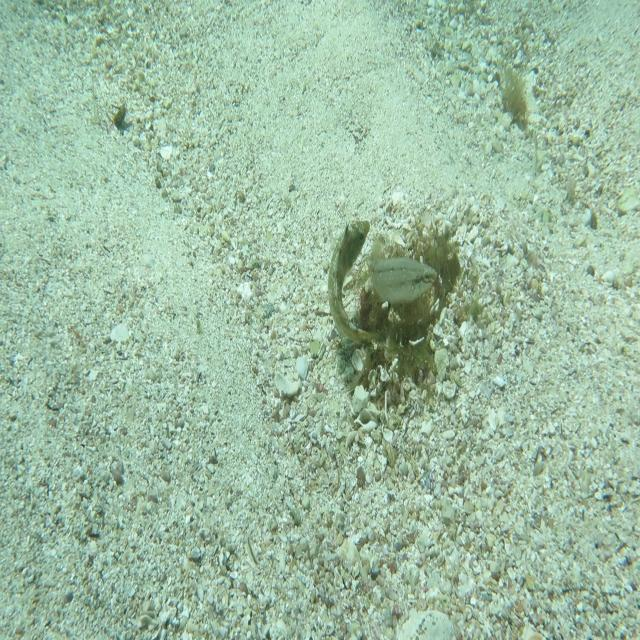BEND: (324, 211, 390, 346)
female: (369, 236, 441, 308)
nest: (327, 193, 465, 409)
